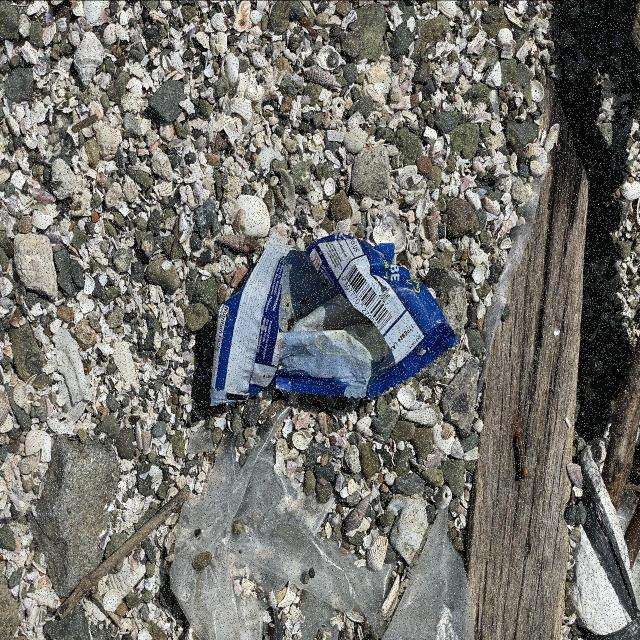plastic_waste: (208, 232, 456, 405)
